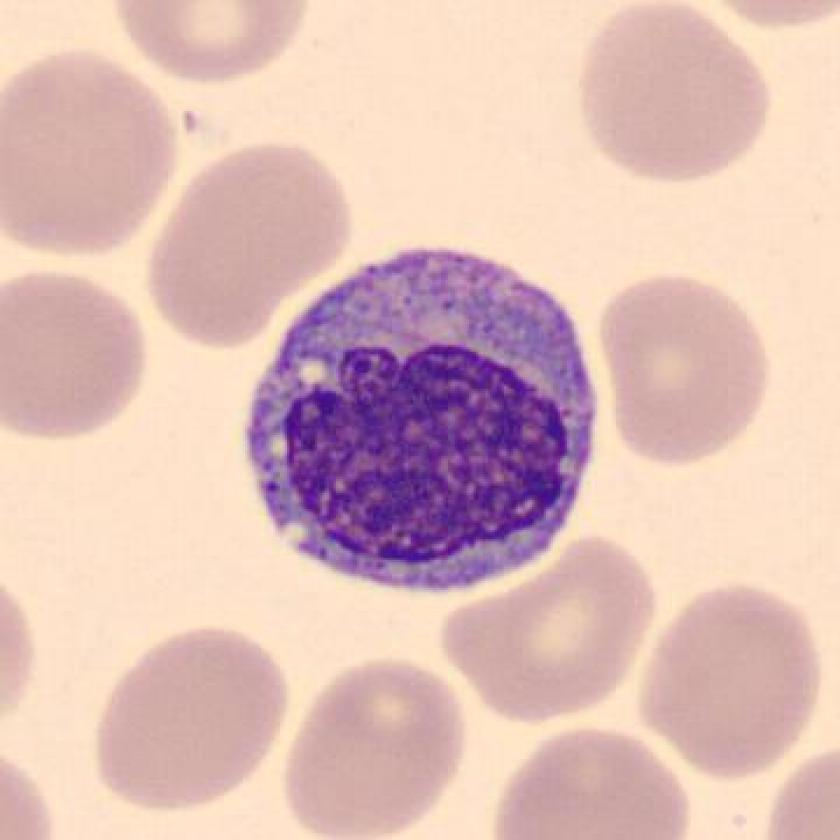monocyte: (227, 223, 617, 614)
